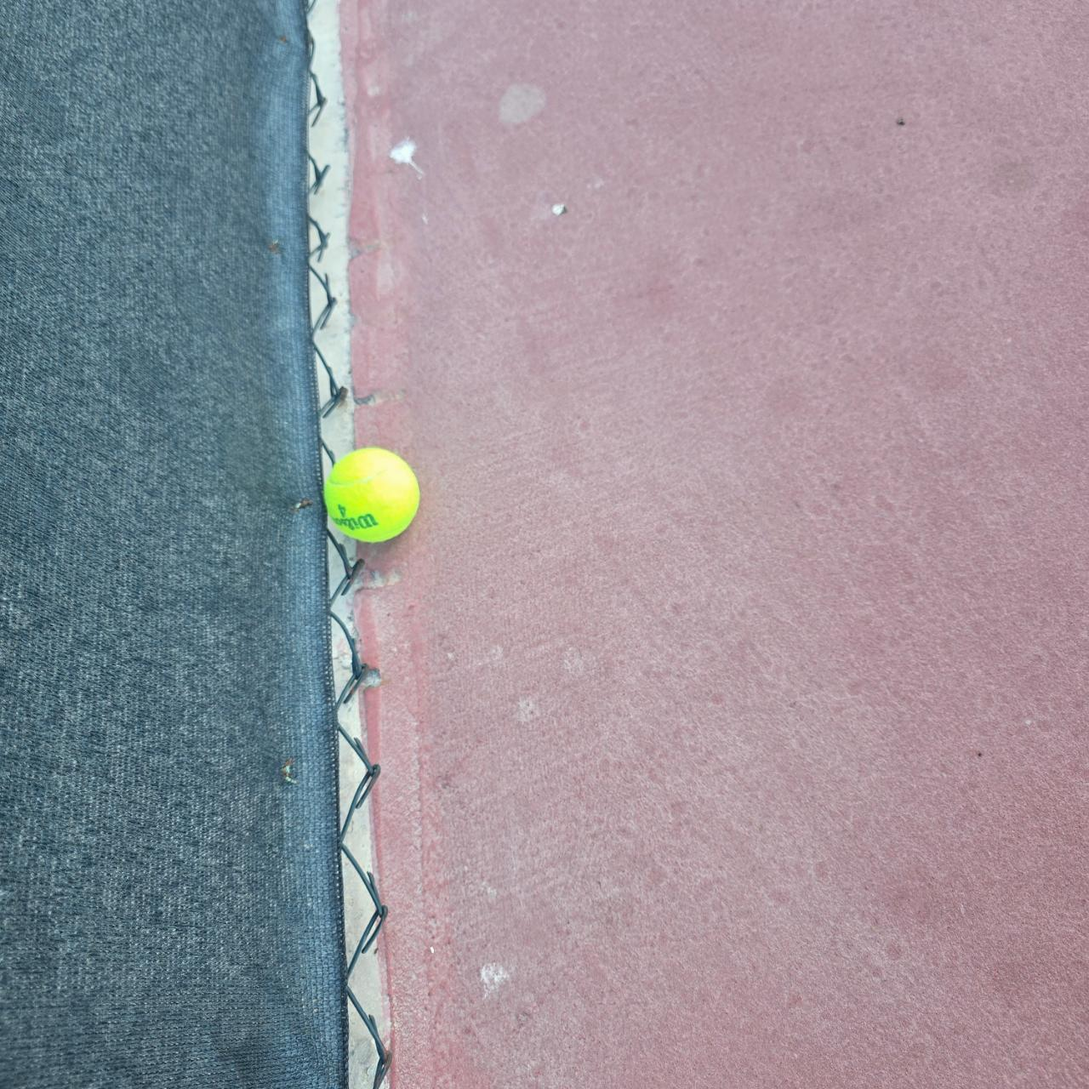tennis-ball: (322, 444, 421, 544)
